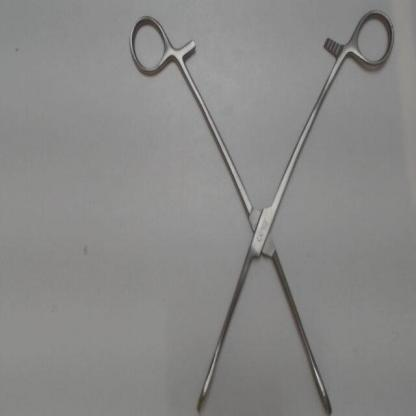Sponge Forceps: (124, 2, 398, 414)
